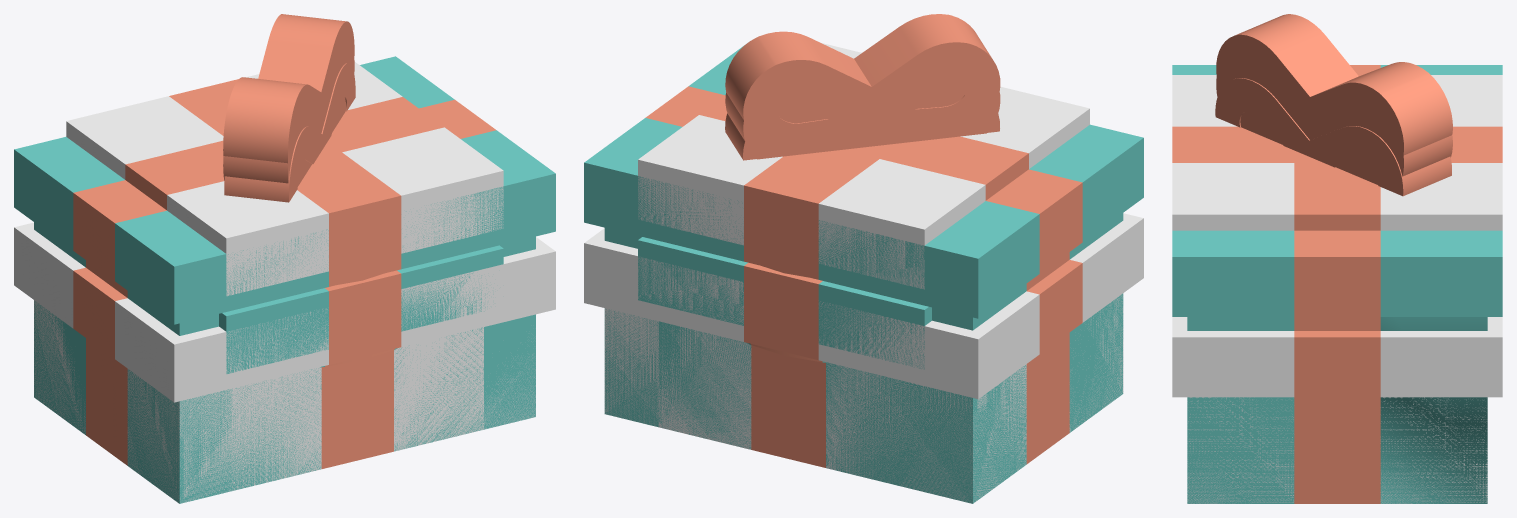
File: presents.glb
3 views of the same model, side by side, from view 1: azimuth 30°, elevation 25°; view 2: azimuth 150°, elevation 25°; view 3: azimuth 270°, elevation 25° (orthographic). The views are drawn at different scales.
Parts seen in each view (by area): view 1: lid, lid.002, presentGreenLow, lid.004, presentLow, present, lid.001, presentGreen, lid.005; view 2: lid, lid.002, presentGreenLow, lid.004, presentLow, lid.001, presentGreen, present, lid.005; view 3: lid, presentGreenLow, lid.002, lid.004, presentLow, lid.005, lid.001.
Boxes of the visible parts, x1,y1,x2,y2 form: lid: [66, 14, 503, 296]; lid.002: [14, 37, 555, 324]; presentGreenLow: [34, 222, 535, 503]; lid.004: [14, 222, 555, 402]; presentLow: [34, 300, 535, 503]; present: [231, 327, 483, 489]; lid.001: [219, 100, 503, 373]; presentGreen: [233, 327, 483, 488]; lid.005: [224, 63, 381, 284]; lid: [638, 14, 1089, 289]; lid.002: [584, 45, 1143, 318]; presentGreenLow: [604, 213, 1123, 503]; lid.004: [584, 213, 1143, 399]; presentLow: [604, 295, 1123, 502]; lid.001: [638, 123, 986, 369]; presentGreen: [658, 321, 918, 474]; present: [658, 324, 918, 478]; lid.005: [725, 89, 999, 277]; lid: [1172, 14, 1502, 230]; presentGreenLow: [1187, 317, 1487, 503]; lid.002: [1172, 51, 1502, 316]; lid.004: [1172, 317, 1502, 397]; presentLow: [1187, 397, 1487, 503]; lid.005: [1215, 78, 1451, 196]; lid.001: [1240, 117, 1378, 184].
Size of the model in its own units: 0.5127 by 0.4535 by 0.3727.
